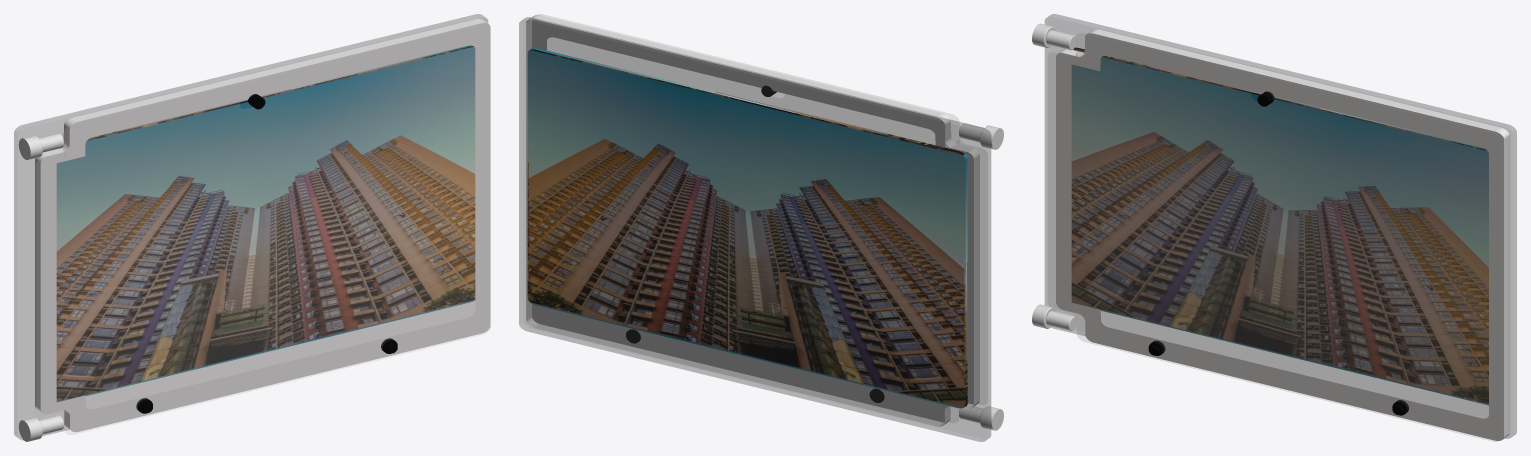
The model's file is a3landslf8.glb.
3 views of the same model, side by side, from view 1: azimuth 30°, elevation 25°; view 2: azimuth 150°, elevation 25°; view 3: azimuth 330°, elevation 25° (orthographic).
Parts seen in each view (by area): view 1: a4horzoneinittwo.001; view 2: a4horzoneinittwo.001; view 3: a4horzoneinittwo.001.
Boxes of the visible parts, x1,y1,x2,y2 form: a4horzoneinittwo.001: [14, 14, 490, 441]; a4horzoneinittwo.001: [519, 14, 1003, 441]; a4horzoneinittwo.001: [1032, 14, 1516, 441].
Size of the model in its own units: 0.2338 by 0.1485 by 0.0144.
Materials: 6 (1 with a texture image).
